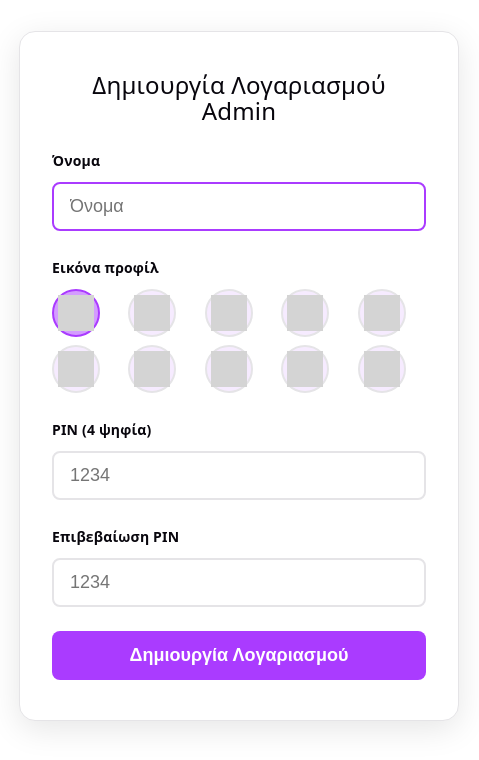
Scenario: Setup › shows error when name is empty
Click the button "Δημιουργία Λογαριασμού" at (239, 656), box 52,631 -> 426,680
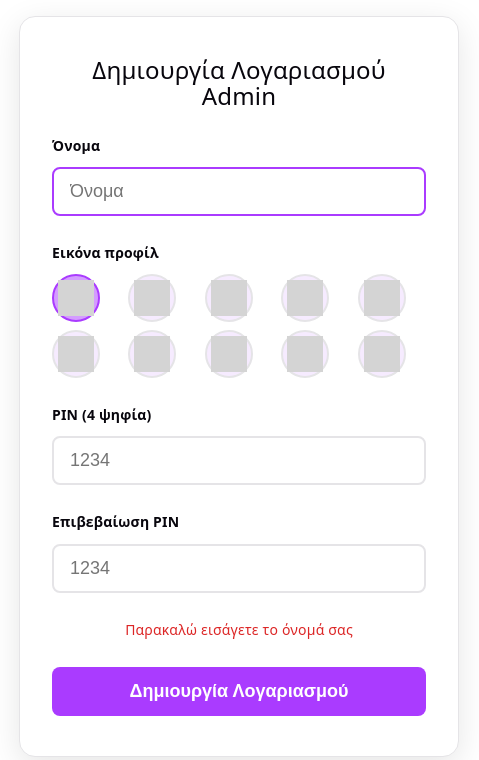
Result: the text "Παρακαλώ εισάγετε το όνομά σας" is shown at 125,620 -> 353,639
